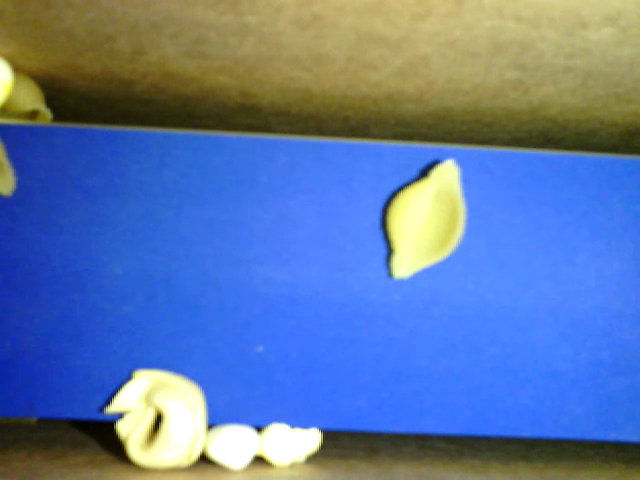shell: (381, 155, 468, 288), (2, 74, 57, 127)
tortellini: (98, 371, 214, 469)
